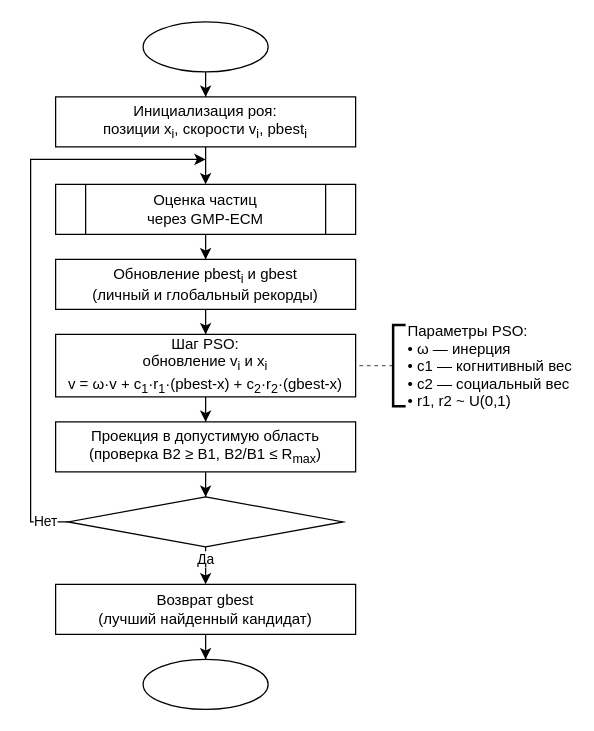
Image size: 594x731. Some labels were removed from this diagram. Here are the shapes that lost their labels. From the top down, the centre of each, then its label:
At point 205,46: "Начало".
At point 205,521: "Бюджет исчерпан?".
At point 205,683: "Конец".
